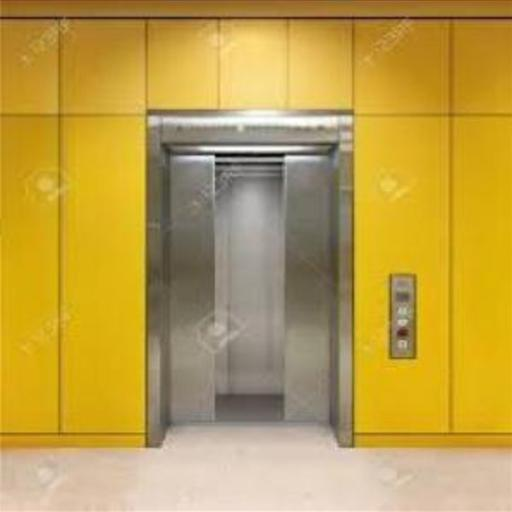closet: (148, 112, 352, 445)
